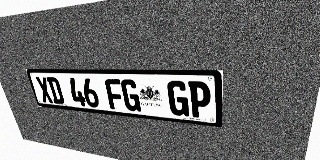4: (67, 78, 87, 107)
6: (80, 78, 100, 108)
D: (46, 77, 65, 104)
F: (104, 79, 125, 110)
G: (167, 80, 189, 117), (120, 79, 141, 112)
P: (188, 81, 211, 119)
X: (35, 77, 54, 103)
